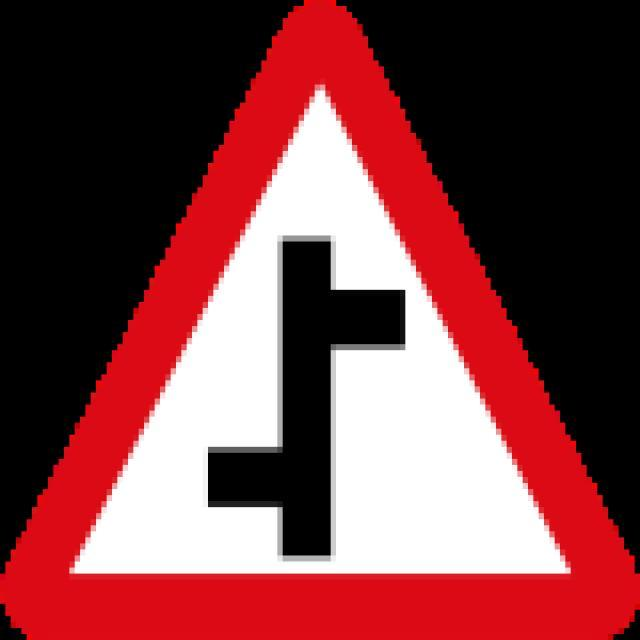Staggered side road junction: (5, 0, 640, 598)
